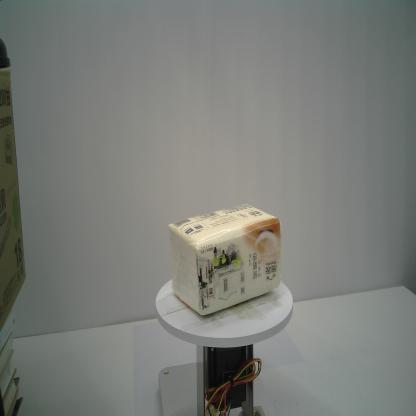Tissue: (166, 203, 282, 318)
